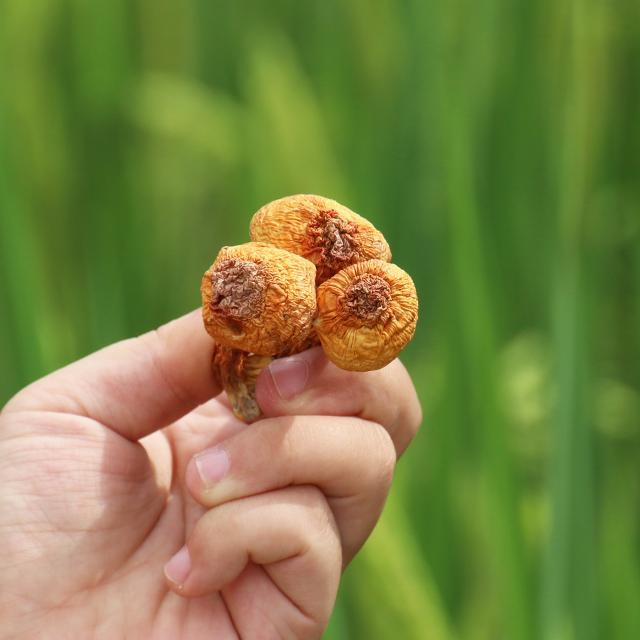Agaricus blazei Murill: (202, 194, 416, 364)
